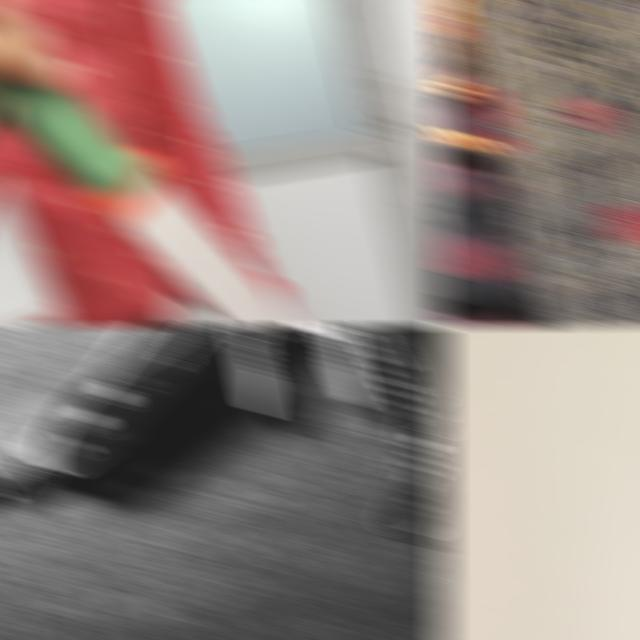Knife: (0, 80, 304, 328)
